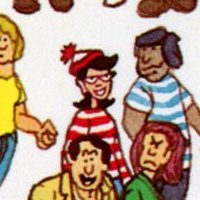wenda: (67, 45, 119, 109)
